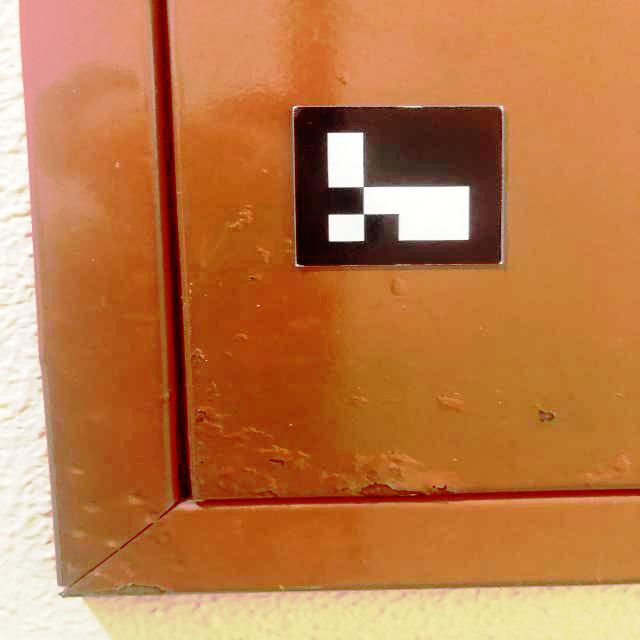Corrosion: (359, 480, 457, 498), (118, 583, 166, 596), (254, 489, 281, 499), (538, 409, 557, 423), (194, 410, 211, 423), (267, 458, 288, 465), (62, 594, 84, 598), (198, 460, 205, 467), (191, 354, 196, 360), (249, 276, 255, 281)
